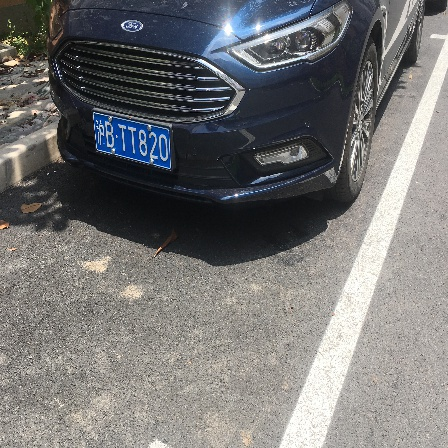plate: (92, 106, 176, 173)
